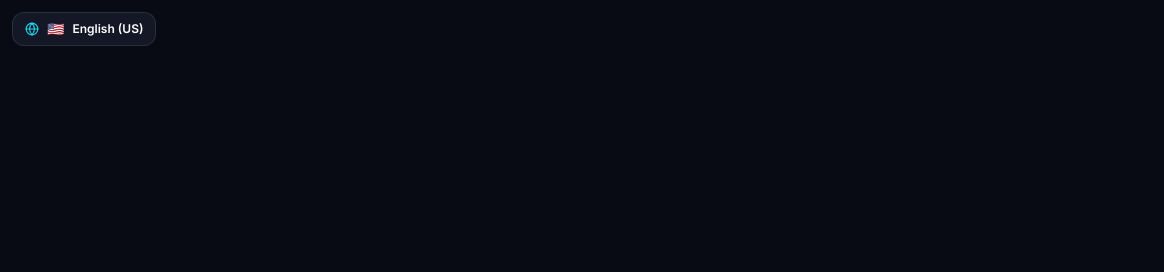
Test case: Component: LanguageSelector › opens menu and selects Hindi
Later steps or results of the test are not shown.
What coordinates should you click on to do the following:
click the button with aria-label "Select language"
I would click on:
 (84, 29)
Its box is [12,12,156,46].
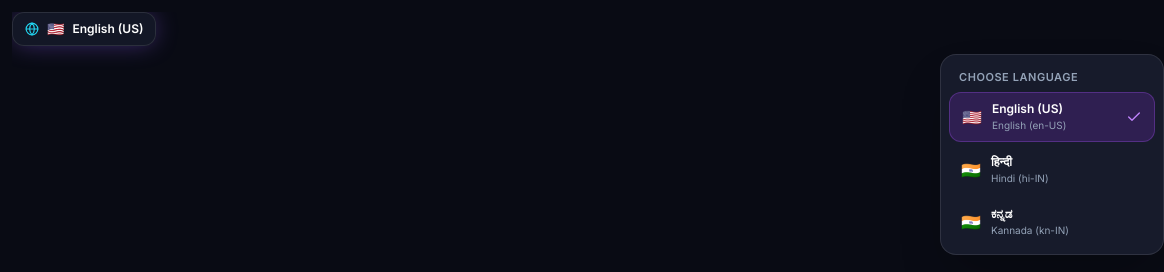
Now the text "हिन्दी" is shown, box [991,154,1012,168]
